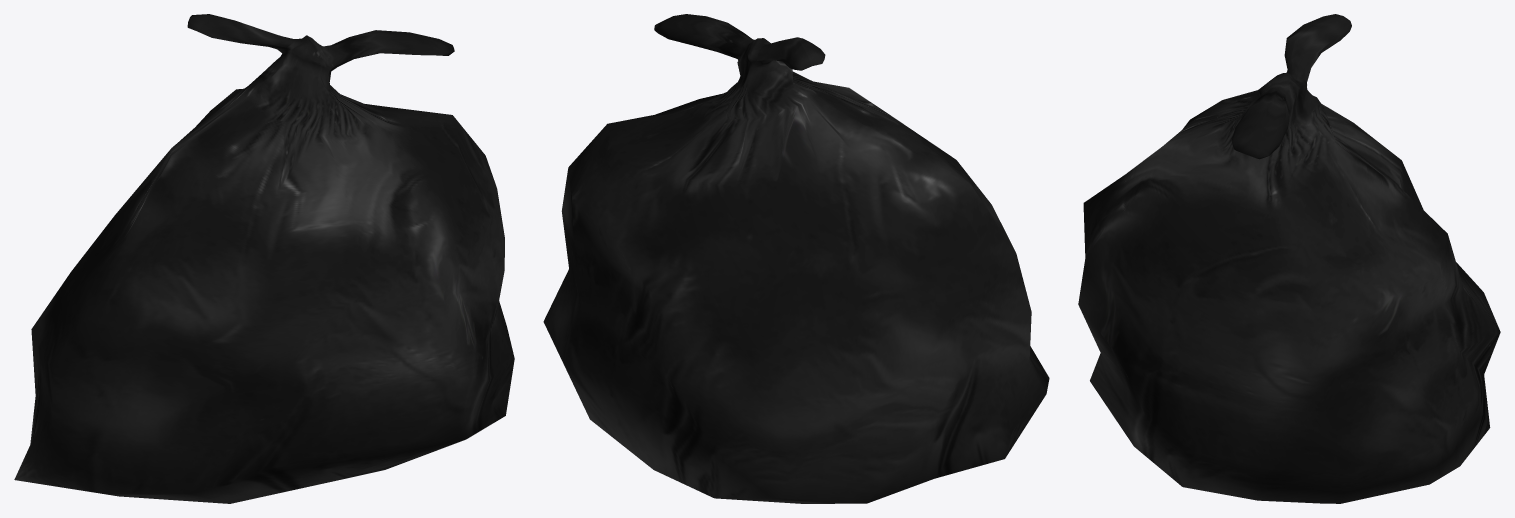
File: trashbag.FBX
3 renders of one model, left to right at view 1: azimuth 30°, elevation 25°; view 2: azimuth 150°, elevation 25°; view 3: azimuth 270°, elevation 25°, orthographic. The views are drawn at different scales.
Visible parts, largest first — view 1: Box09; view 2: Box09; view 3: Box09.
Part boxes in pixels (x1,y1,x2,y2): Box09: (14, 14, 514, 503); Box09: (543, 14, 1049, 503); Box09: (1078, 14, 1500, 503).
Size of the model in its own units: 52.33 by 47.61 by 42.15.
1 material, 1 textured.
